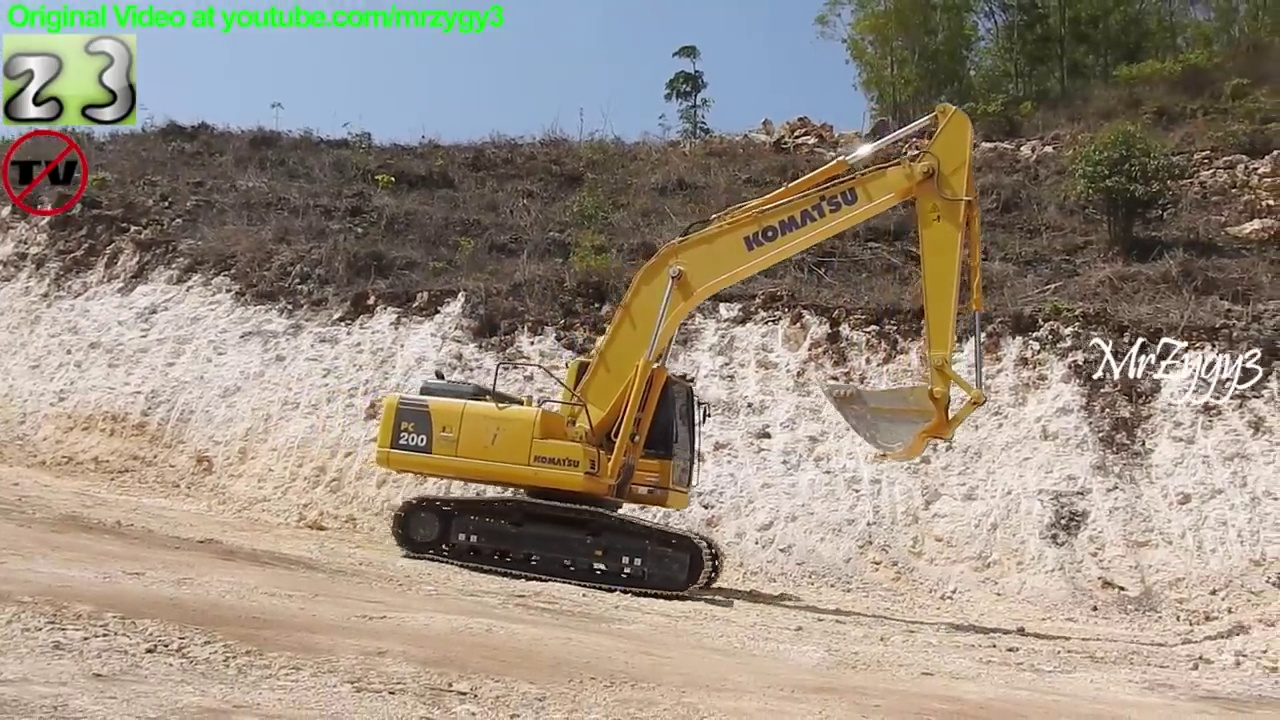excavator: (365, 99, 991, 605)
